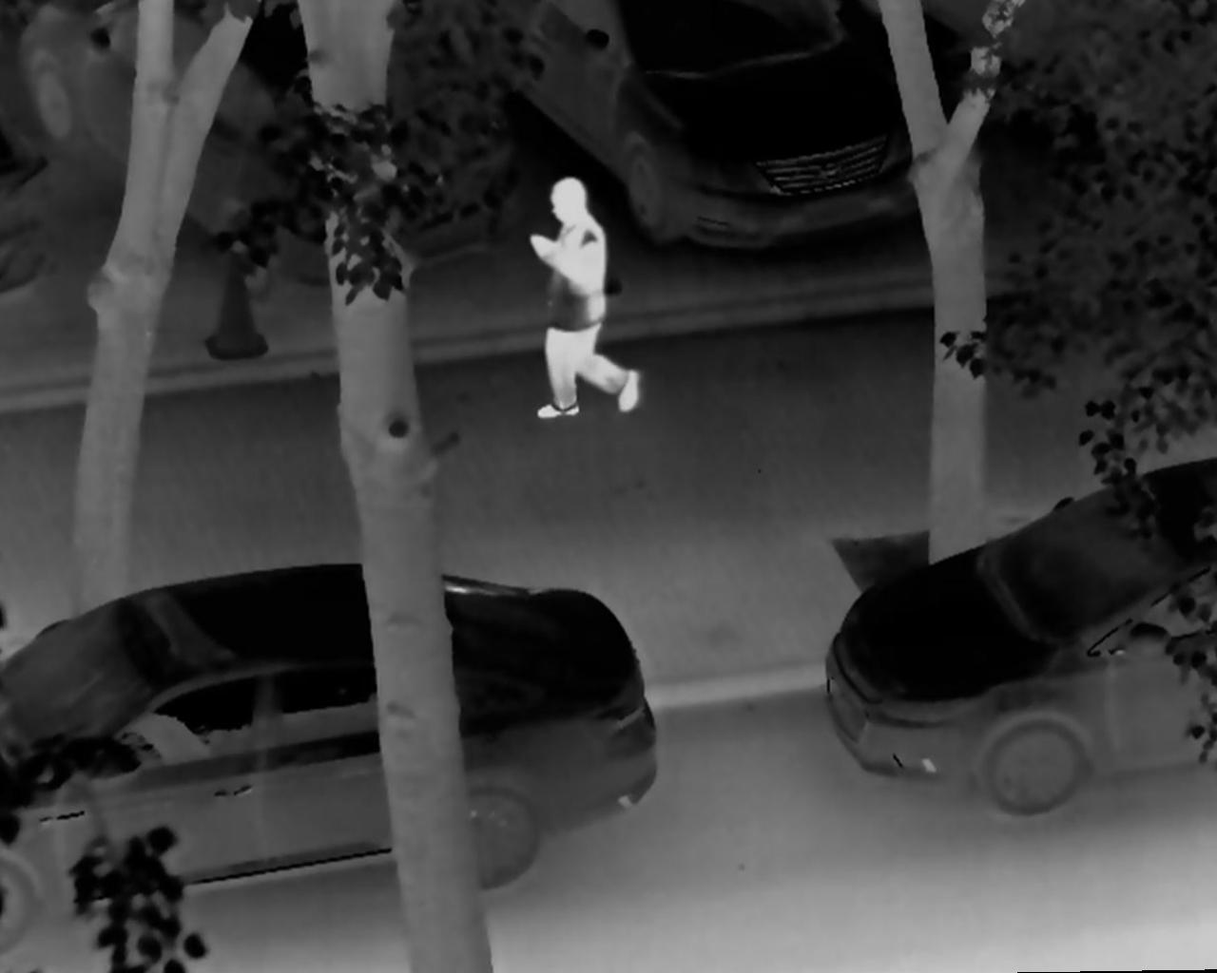person: (506, 178, 646, 422)
